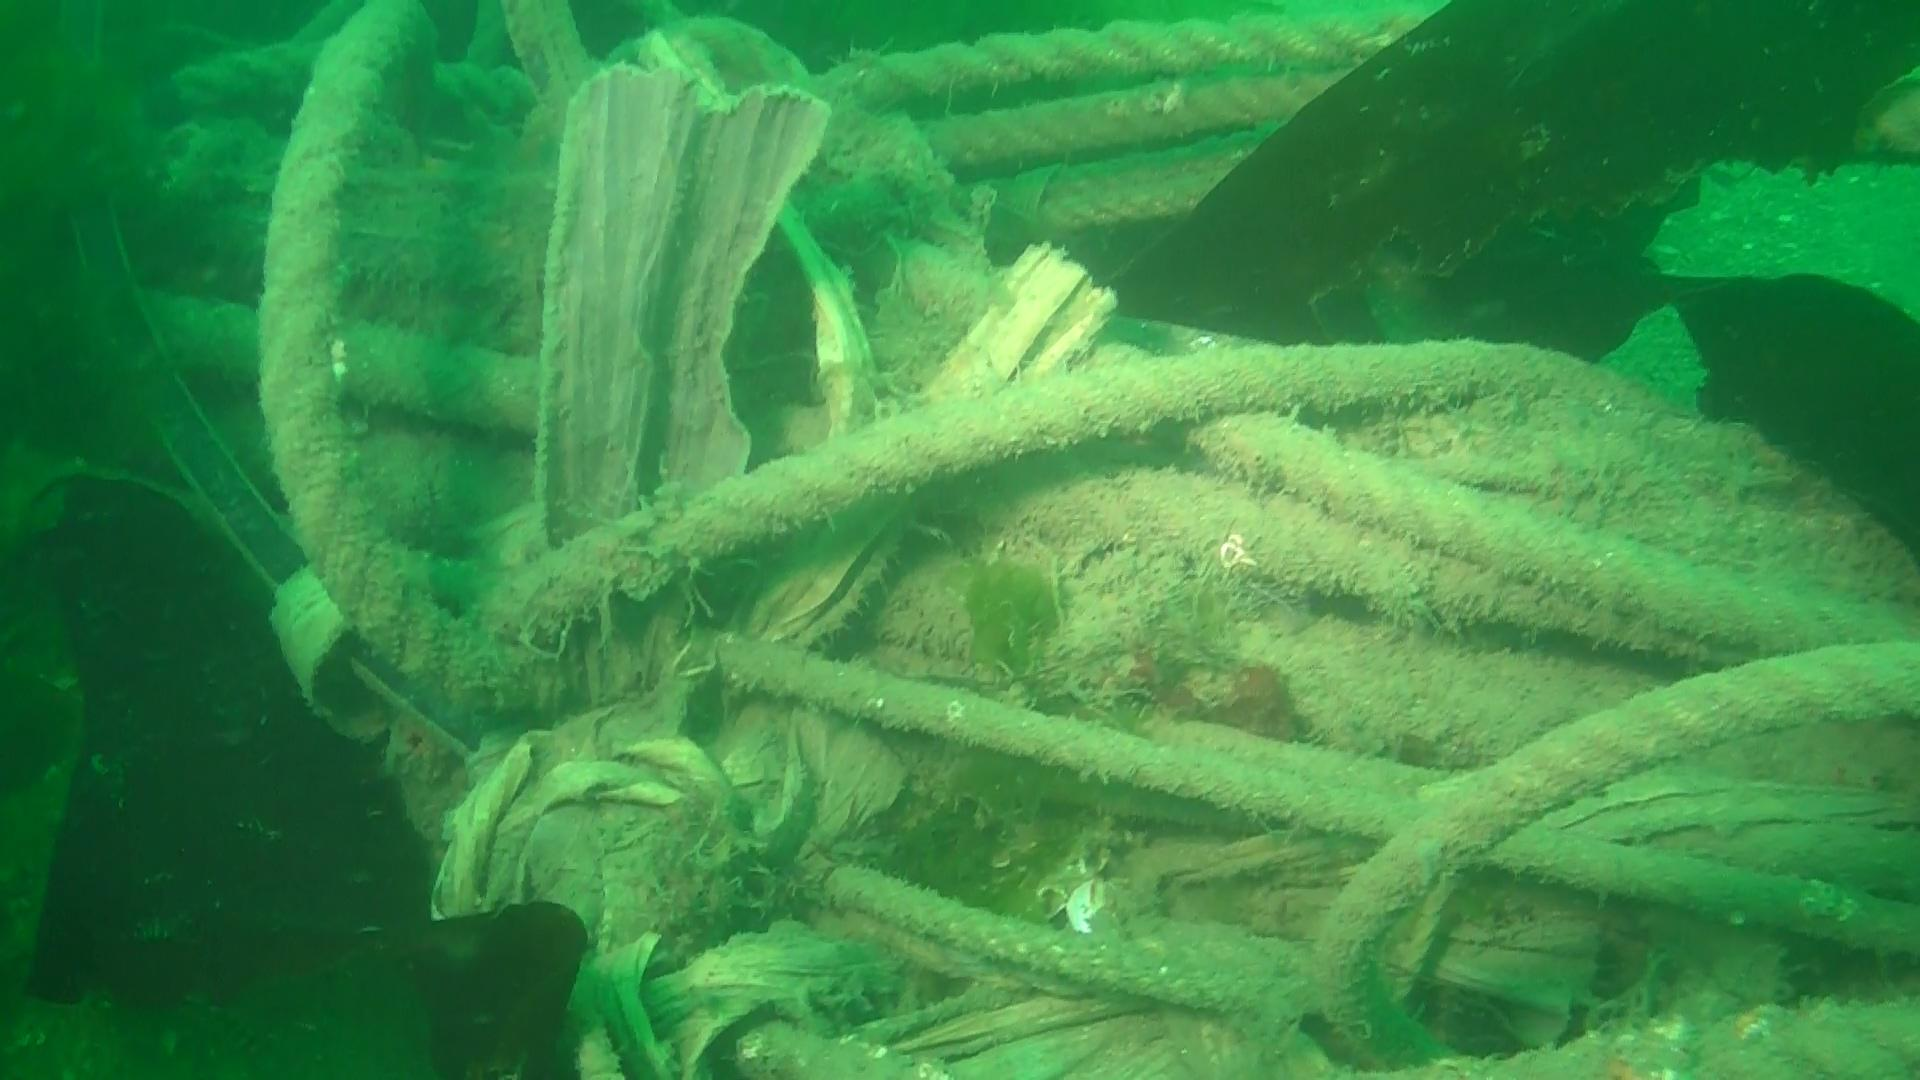bundle of ropes: (256, 0, 1920, 1080)
